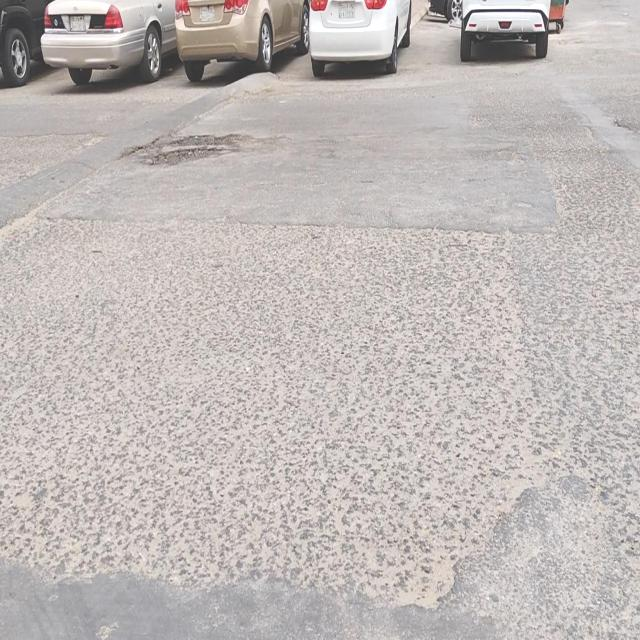Potholes: (135, 132, 243, 171)
